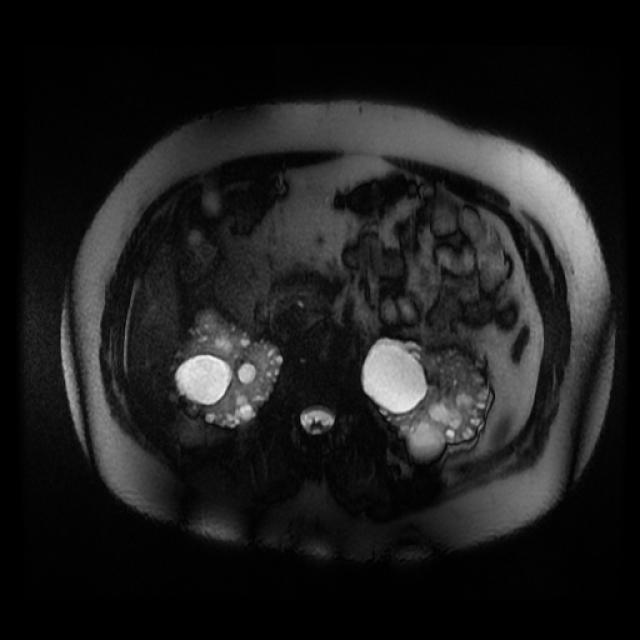sag: (173, 306, 282, 431)
sol: (362, 336, 492, 460)
